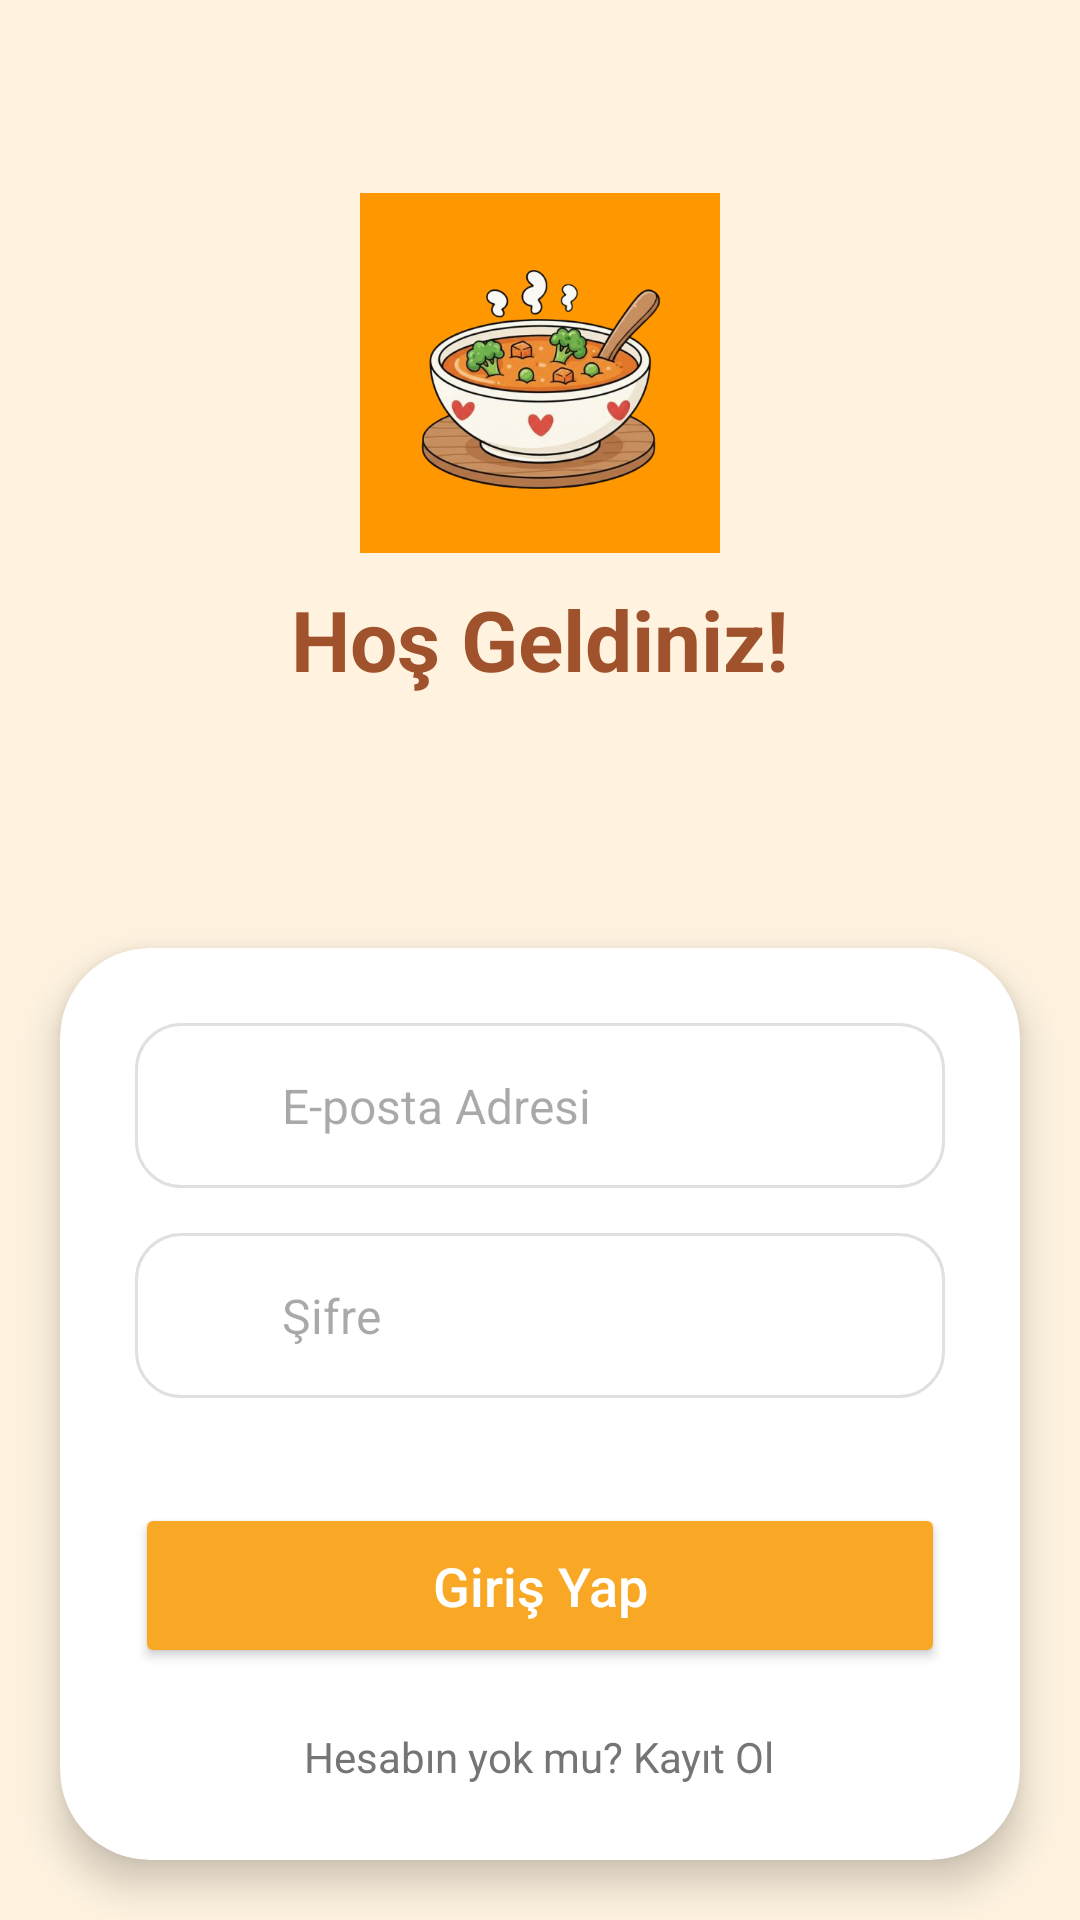

Icons on this 1080px x 1920px Android screen, each with its box as (x1, y1, x2, y2):
corba: (360, 193, 720, 553)
